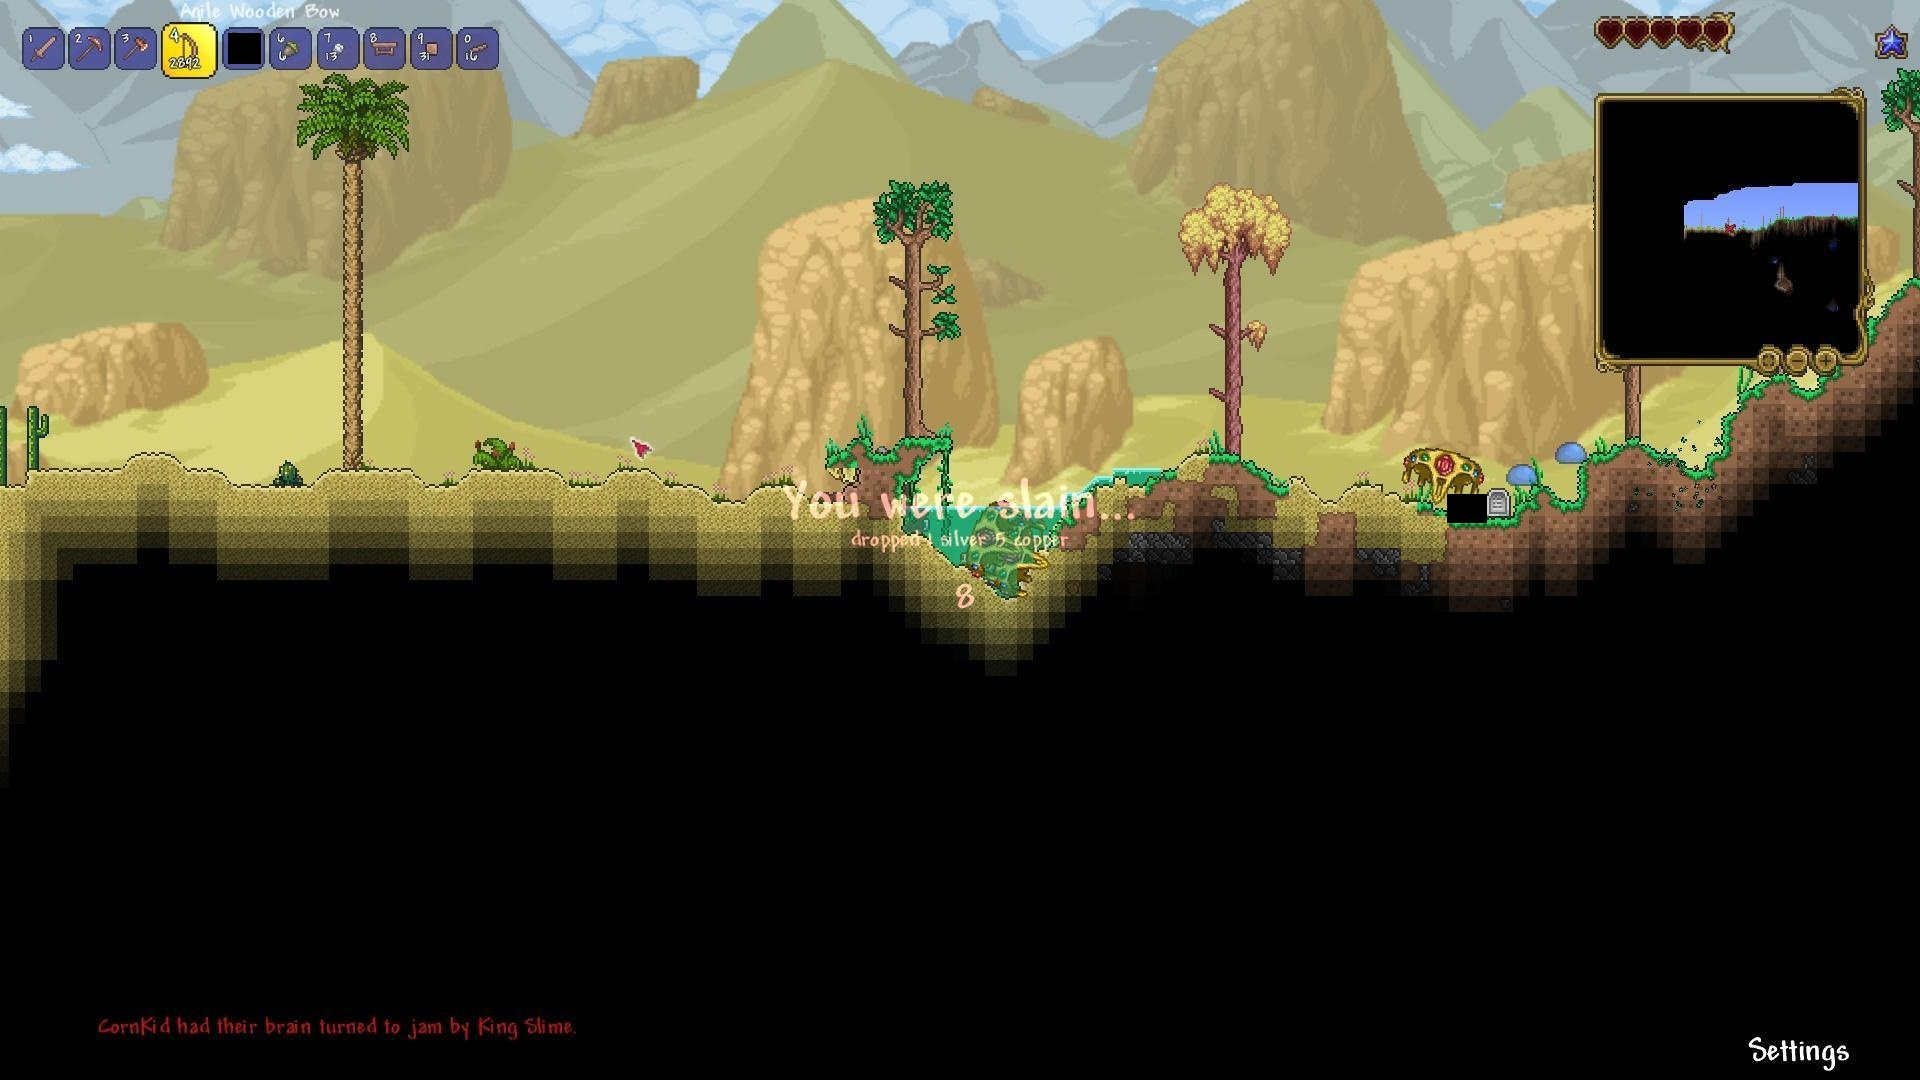slime: (1506, 462, 1543, 489), (1553, 438, 1589, 465), (1880, 32, 1909, 57)
workbench: (367, 34, 404, 59)
